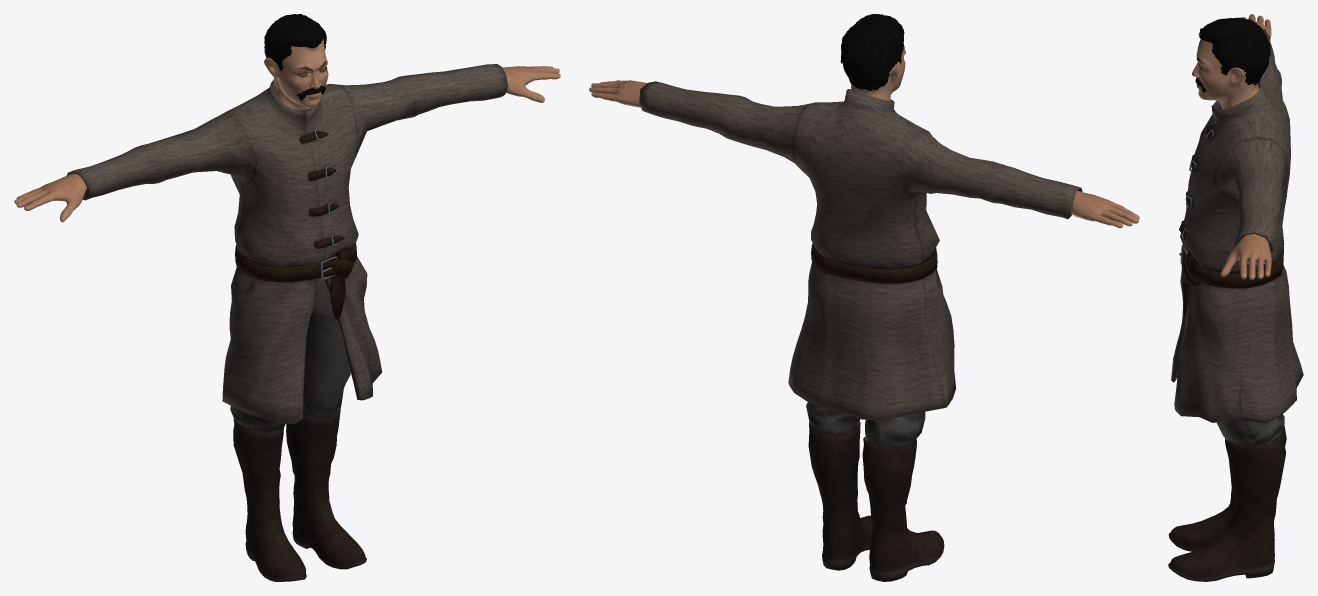
Rendered from Mijat_Sabljar.obj.
The picture shows the model from 3 angles, left to right: view 1: azimuth 30°, elevation 25°; view 2: azimuth 150°, elevation 25°; view 3: azimuth 270°, elevation 25°; orthographic projection.
Visible parts, largest first — view 1: Tops, Shoes, Body, Bottoms, Hair; view 2: Tops, Shoes, Hair, Body, Bottoms; view 3: Tops, Shoes, Body, Hair, Bottoms.
Part boxes in pixels (<box>): Tops: <box>66,64,507,423</box>; Shoes: <box>233,407,366,581</box>; Body: <box>14,39,560,222</box>; Bottoms: <box>230,278,350,432</box>; Hair: <box>264,14,326,70</box>; Tops: <box>639,81,1082,420</box>; Shoes: <box>808,421,944,581</box>; Hair: <box>840,14,904,90</box>; Body: <box>589,45,1139,228</box>; Bottoms: <box>806,402,925,447</box>; Tops: <box>1171,29,1303,423</box>; Shoes: <box>1168,425,1286,581</box>; Body: <box>1192,14,1271,279</box>; Hair: <box>1198,17,1270,85</box>; Bottoms: <box>1197,263,1284,445</box>.
Bounding box in the file's own units: 190 × 180 × 41.03.
Materials: 6 (6 with a texture image).
